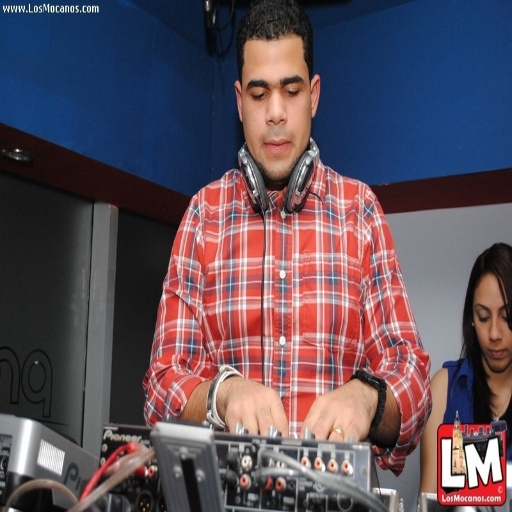hand: (197, 372, 296, 442), (300, 379, 377, 437)
